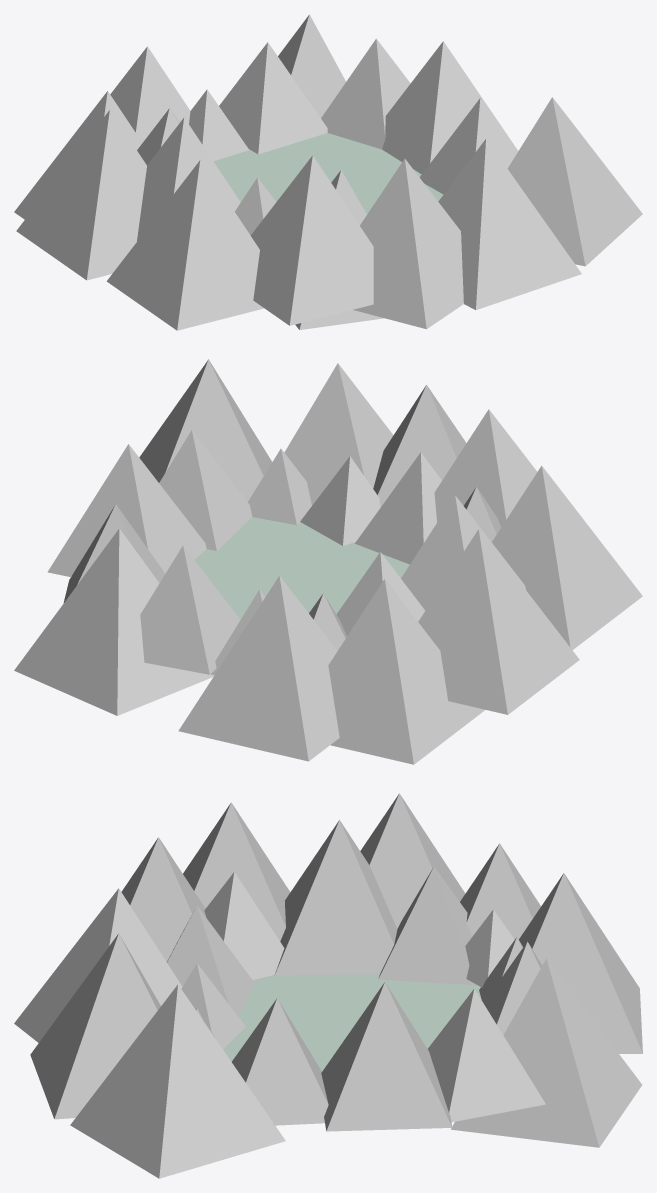
Rendered from boicanh.fbx.
3 views of the same model, one above another, from view 1: azimuth 30°, elevation 25°; view 2: azimuth 150°, elevation 25°; view 3: azimuth 270°, elevation 25° (orthographic). The views are drawn at different scales.
Parts seen in each view (by area): view 1: pPyramid13, pPyramid14, pPyramid16, pPyramid17, pPyramid15, pPyramid21, pPlane1, pPyramid1, pPyramid3, pPyramid4, pPyramid12, pPyramid19 (+7 smaller); view 2: pPyramid19, pPyramid17, pPyramid18, pPyramid20, pPyramid13, pPlane1, pPyramid3, pPyramid21, pPyramid1, pPyramid16, pPyramid14, pPyramid2 (+10 smaller); view 3: pPyramid21, pPyramid20, pPyramid1, pPyramid12, pPyramid16, pPlane1, pPyramid19, pPyramid4, pPyramid2, pPyramid15, pPyramid11, pPyramid13 (+9 smaller).
Boxes of the visible parts, <box> form: pPyramid13: <box>106,160,264,330</box>; pPyramid14: <box>250,155,373,325</box>; pPyramid16: <box>438,139,581,309</box>; pPyramid17: <box>16,110,146,280</box>; pPyramid15: <box>353,158,463,329</box>; pPyramid21: <box>507,97,642,266</box>; pPlane1: <box>213,133,443,214</box>; pPyramid1: <box>382,41,518,174</box>; pPyramid3: <box>219,42,327,154</box>; pPyramid4: <box>321,38,410,149</box>; pPyramid12: <box>137,117,240,241</box>; pPyramid19: <box>110,46,190,142</box>; pPyramid19: <box>178,576,339,761</box>; pPyramid17: <box>418,529,579,714</box>; pPyramid18: <box>328,579,485,764</box>; pPyramid20: <box>14,528,214,715</box>; pPyramid13: <box>492,466,642,649</box>; pPlane1: <box>194,517,409,619</box>; pPyramid3: <box>140,545,240,674</box>; pPyramid21: <box>139,359,272,501</box>; pPyramid1: <box>47,444,206,576</box>; pPyramid16: <box>284,363,393,505</box>; pPyramid14: <box>434,409,537,527</box>; pPyramid2: <box>159,430,252,550</box>; pPyramid21: <box>70,984,285,1178</box>; pPyramid20: <box>451,958,642,1147</box>; pPyramid1: <box>321,982,452,1131</box>; pPyramid12: <box>275,820,397,975</box>; pPyramid16: <box>30,933,160,1119</box>; pPlane1: <box>223,974,481,1071</box>; pPyramid19: <box>519,873,642,1053</box>; pPyramid4: <box>428,988,545,1122</box>; pPyramid2: <box>232,998,328,1125</box>; pPyramid15: <box>14,888,182,1042</box>; pPyramid11: <box>378,866,476,985</box>; pPyramid13: <box>183,802,290,941</box>.
Size of the model in its own units: 454 by 146 by 447.
